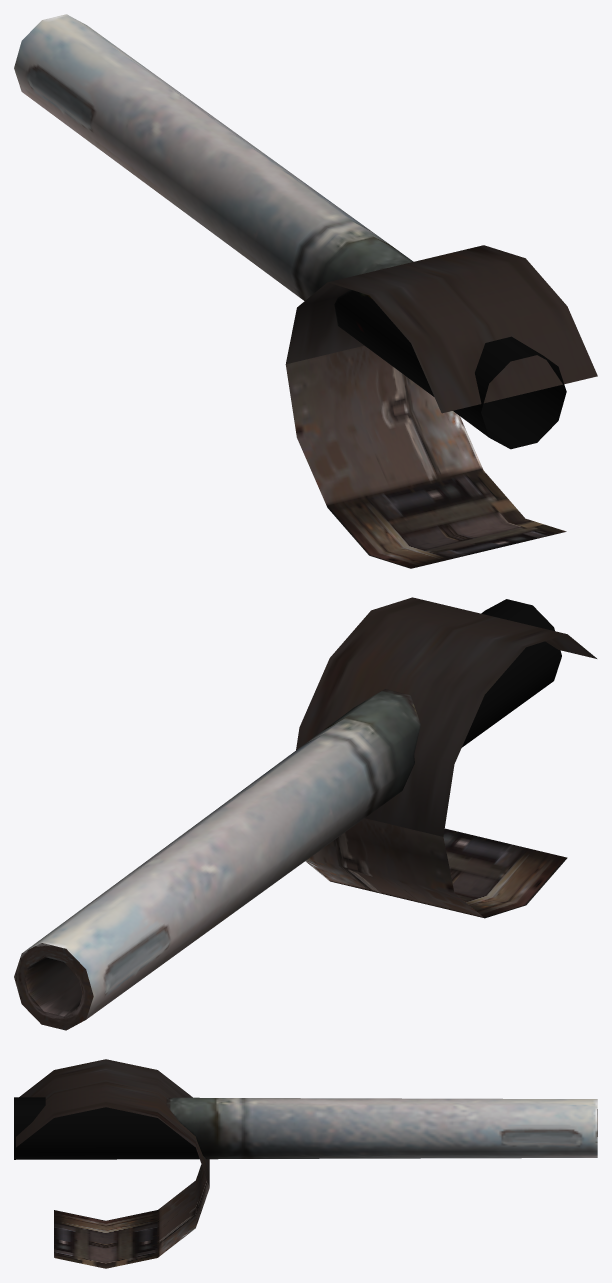
Rendered from lv5paokou_da.FBX.
3 renders of one model, top to bottom at view 1: azimuth 30°, elevation 25°; view 2: azimuth 150°, elevation 25°; view 3: azimuth 270°, elevation 25°, orthographic. The views are drawn at different scales.
Parts seen in each view (by area): view 1: paokou02, Object856; view 2: Object856, paokou02; view 3: Object856, paokou02.
Part boxes in pixels (bbox=[...]): paokou02: bbox=[285, 245, 597, 568]; Object856: bbox=[14, 14, 566, 449]; Object856: bbox=[14, 599, 561, 1030]; paokou02: bbox=[296, 597, 596, 918]; Object856: bbox=[14, 1097, 597, 1159]; paokou02: bbox=[16, 1059, 209, 1268].
Bounding box in the file's own units: 1.74 × 2.77 × 9.02.
